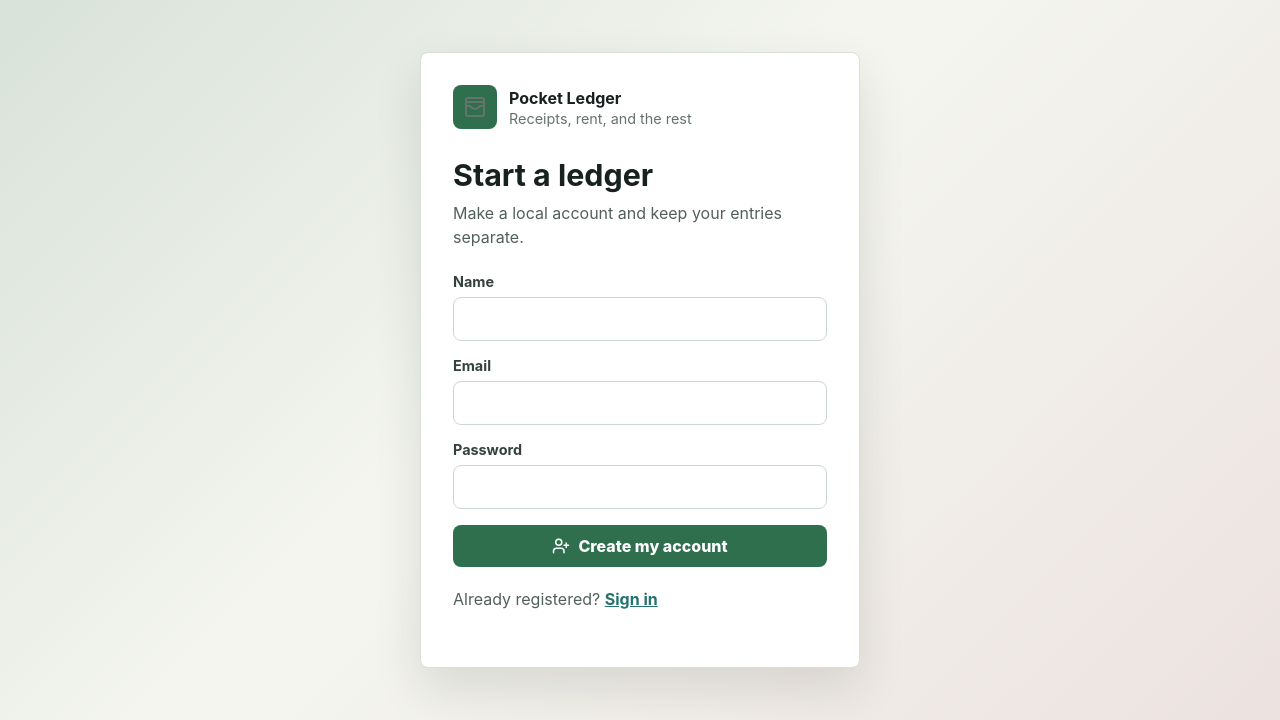
Test: authentication forms › shows the API message when registration fails
In the field labelled "Name": (640, 319) [453,297,827,341], type "Max"
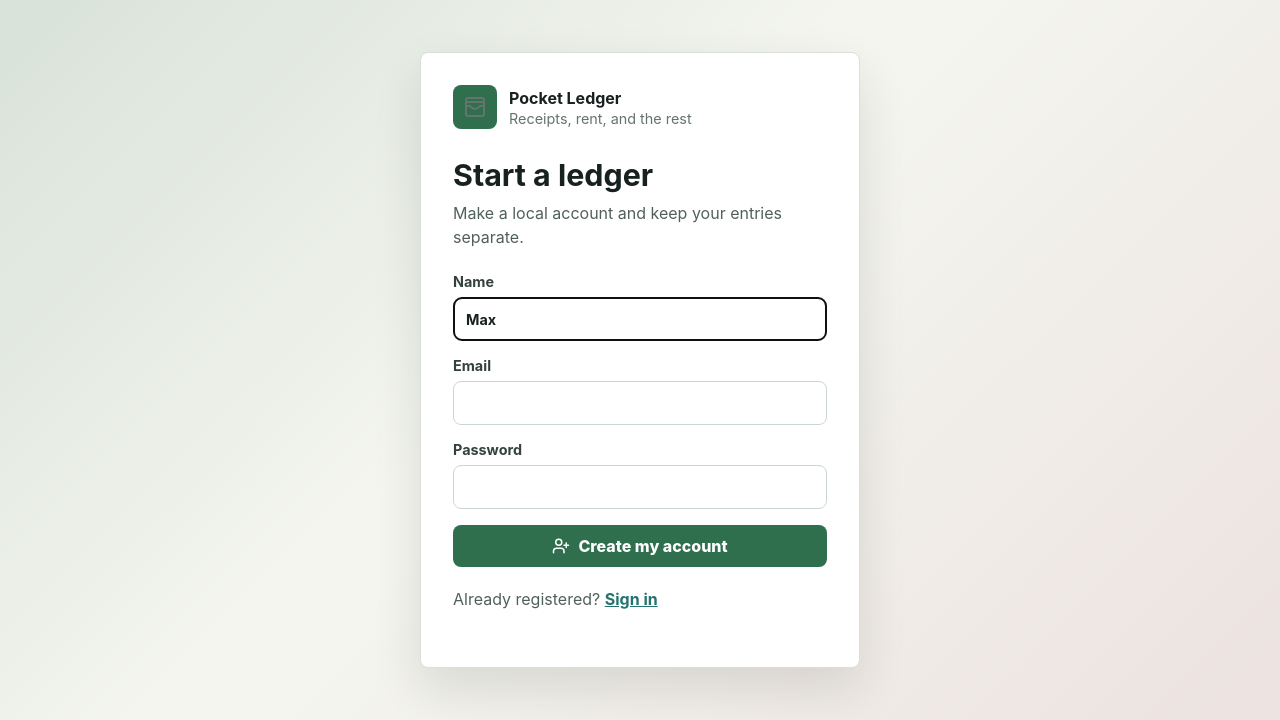
In the field labelled "Email": (640, 403) [453,381,827,425], type "max@example.com"
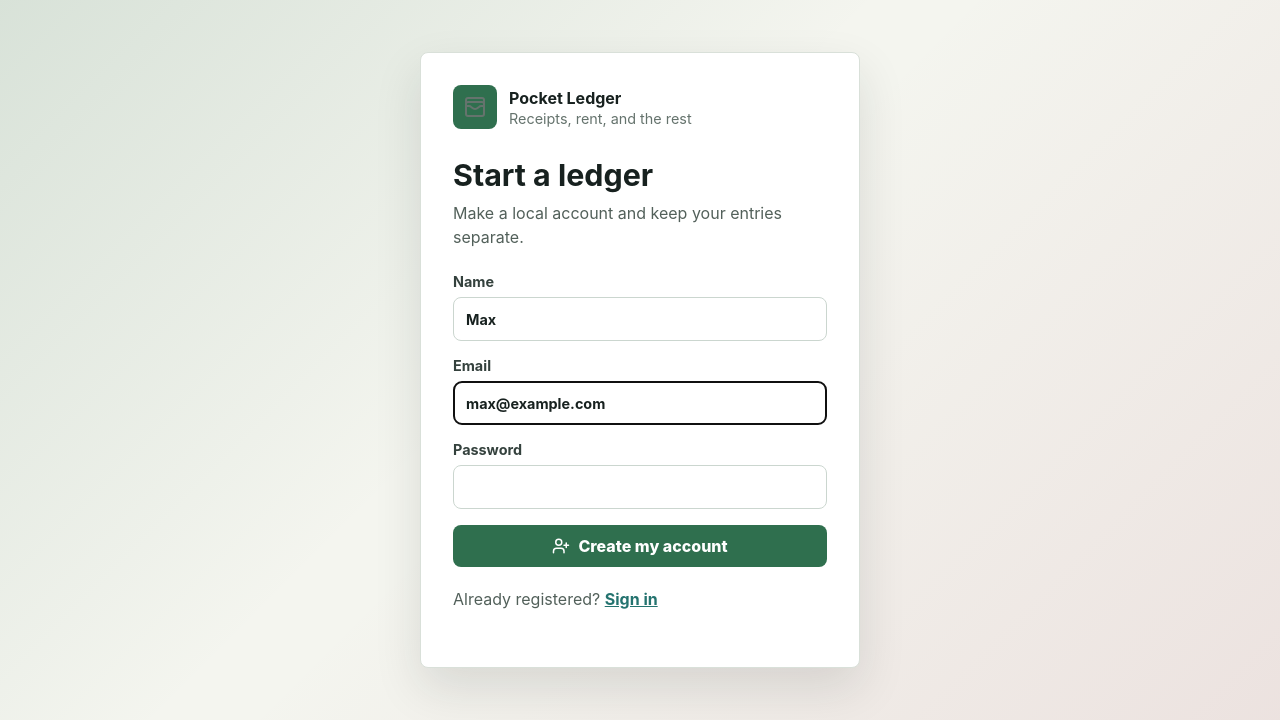
In the password field labelled "Password": (640, 487) [453,465,827,509], type "password123"
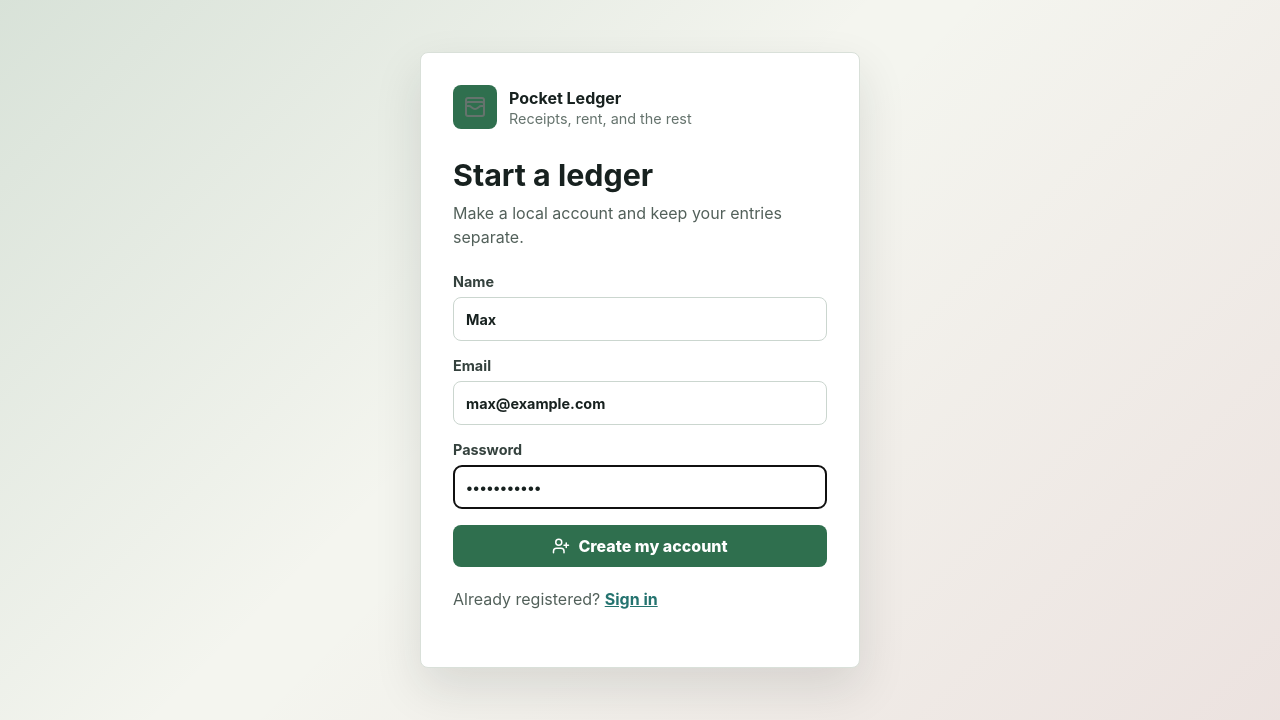
Click the button "Create my account": (640, 546) [453,525,827,567]
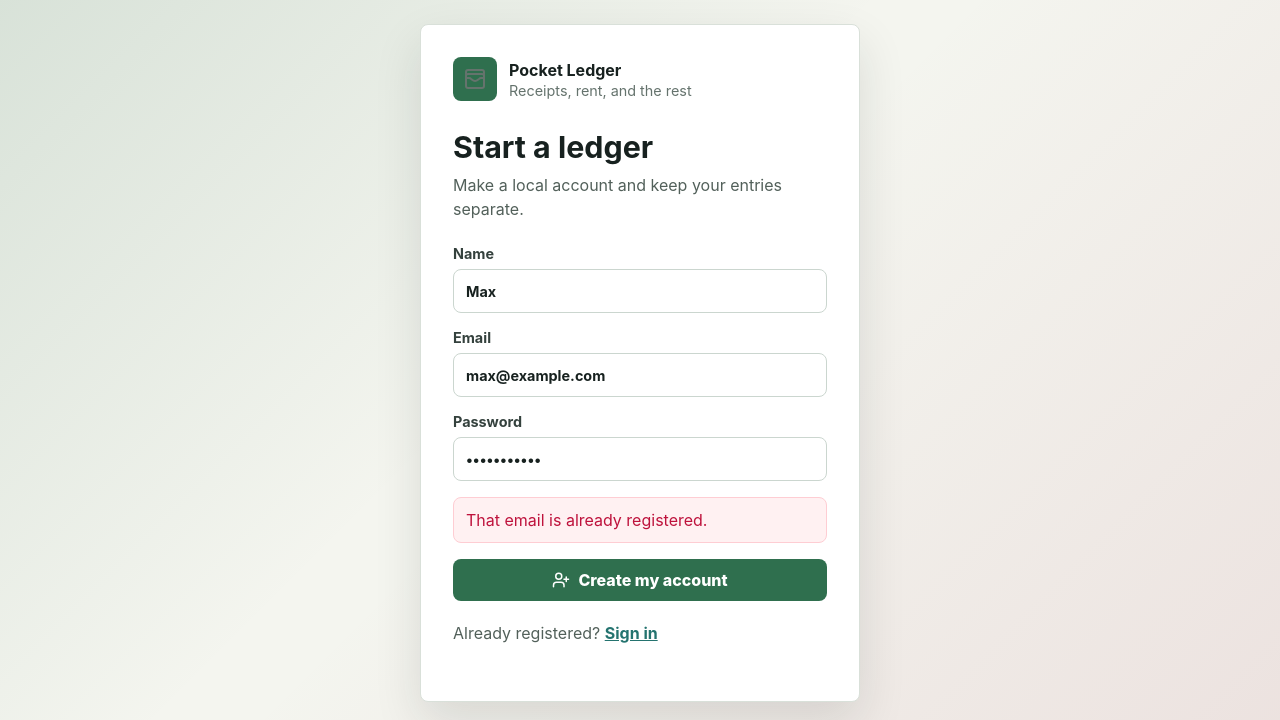
Expected: the text "That email is already registered." is shown, [453,497,827,543]
